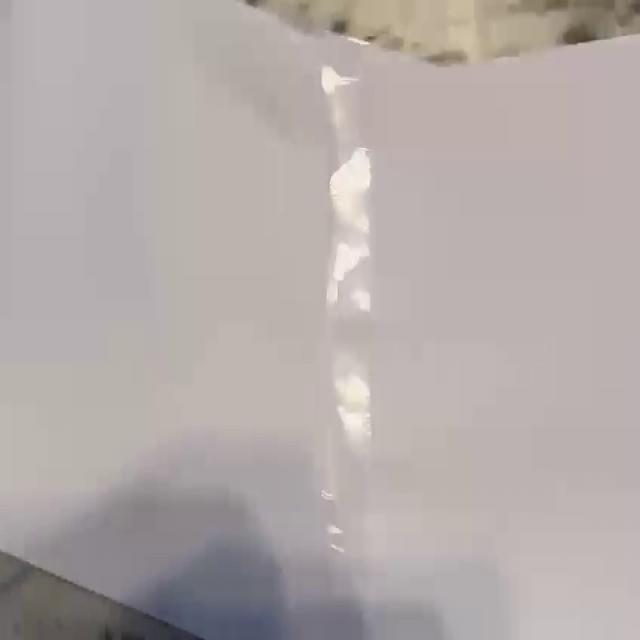road: (0, 1, 640, 639)
